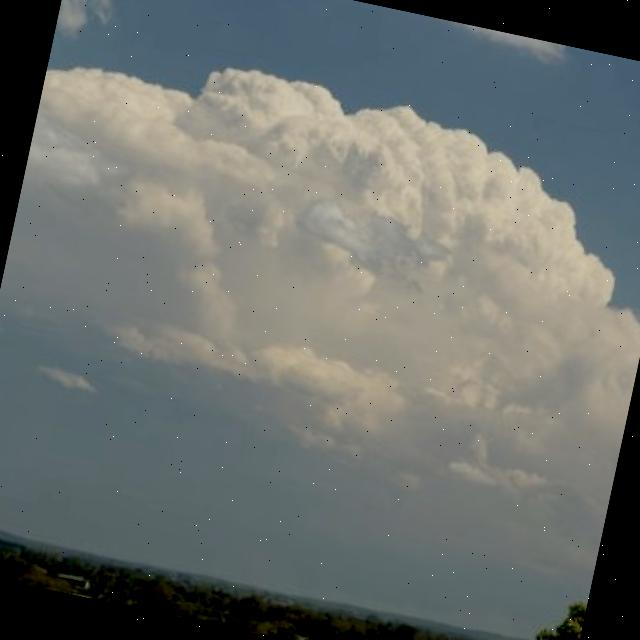Cb: (1, 10, 640, 499)
